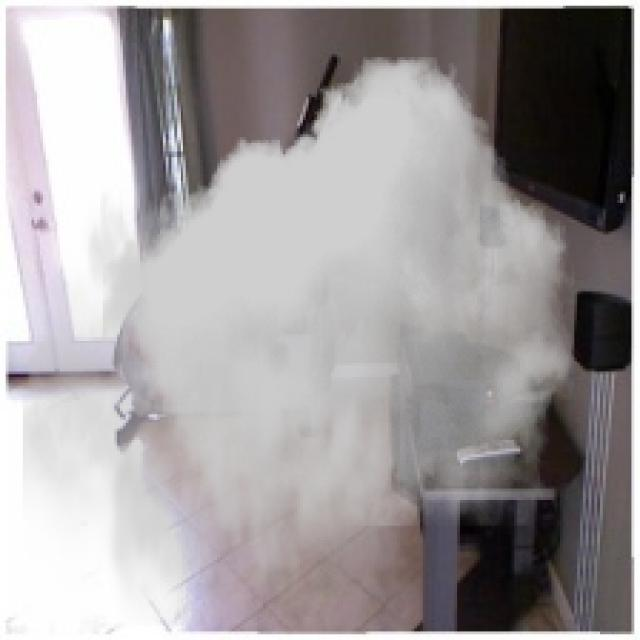smoke: (23, 57, 574, 626)
